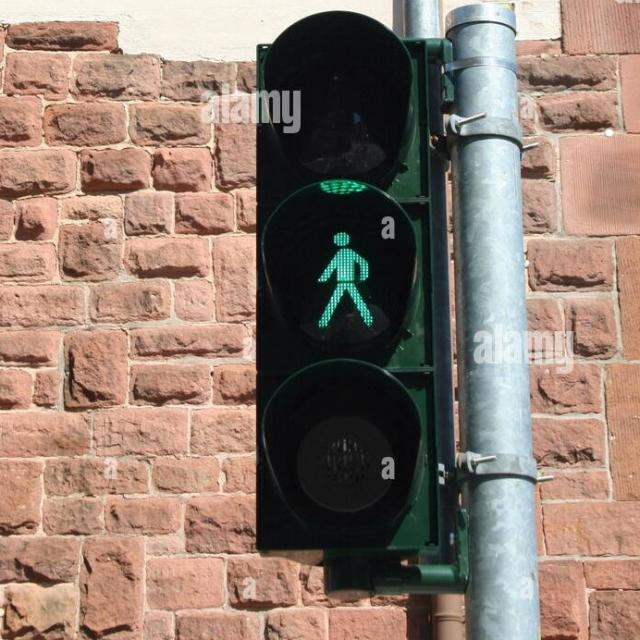green-light: (295, 222, 381, 335)
